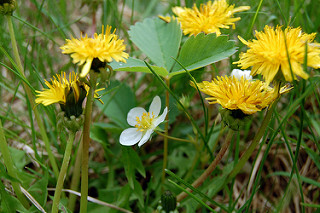dandelion yellow: (230, 24, 320, 82), (190, 73, 294, 121), (59, 23, 131, 78), (34, 71, 104, 124), (158, 1, 250, 41)
